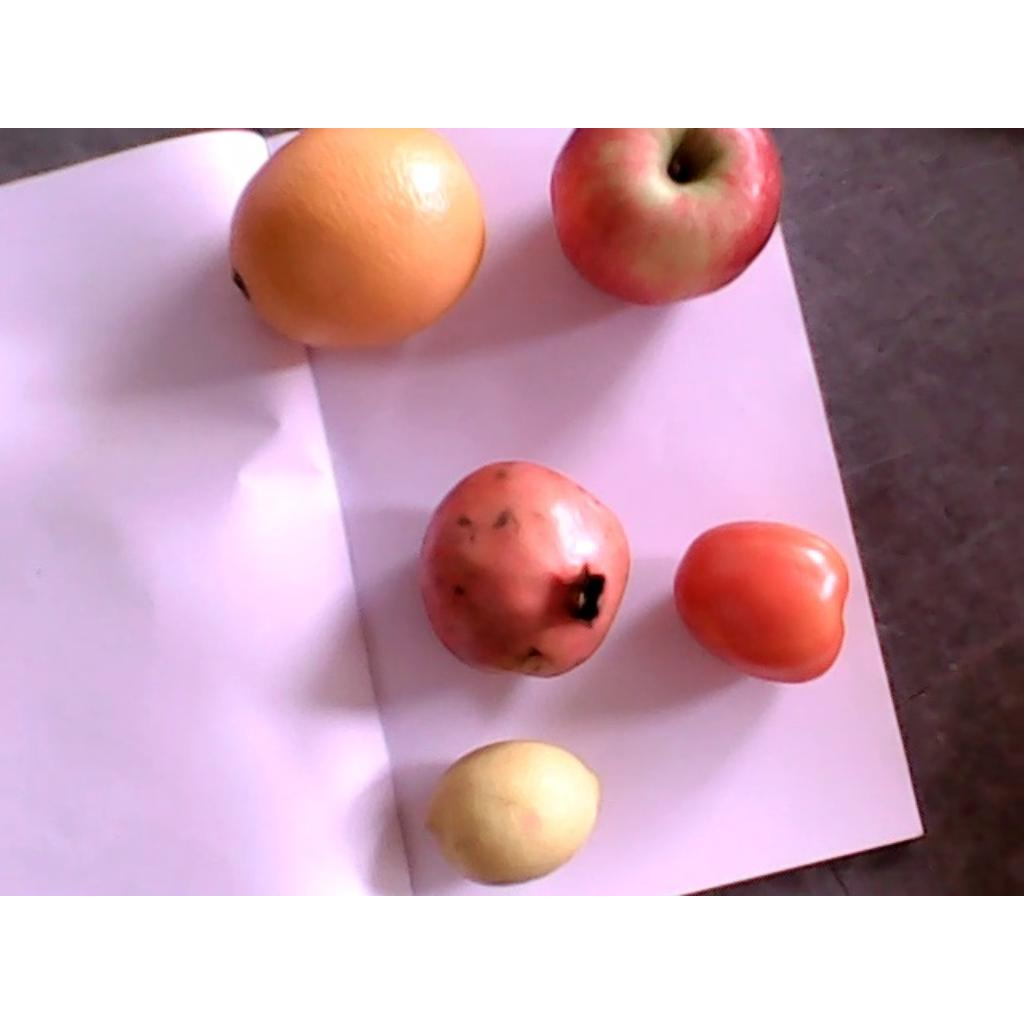apple: (551, 128, 787, 303)
lemon: (423, 742, 604, 886)
orange: (229, 128, 486, 347)
pomegranate: (422, 460, 631, 676)
tomato: (673, 522, 848, 682)
